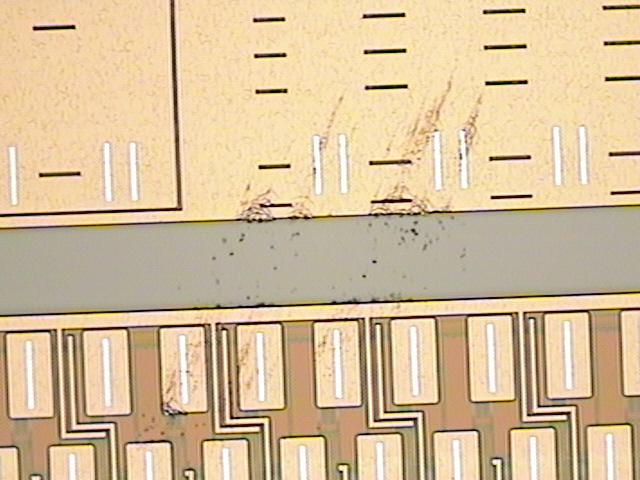SCRATCH: (123, 54, 496, 467)
